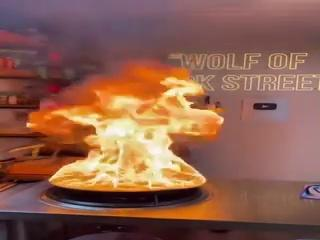Fire: (31, 60, 210, 194)
